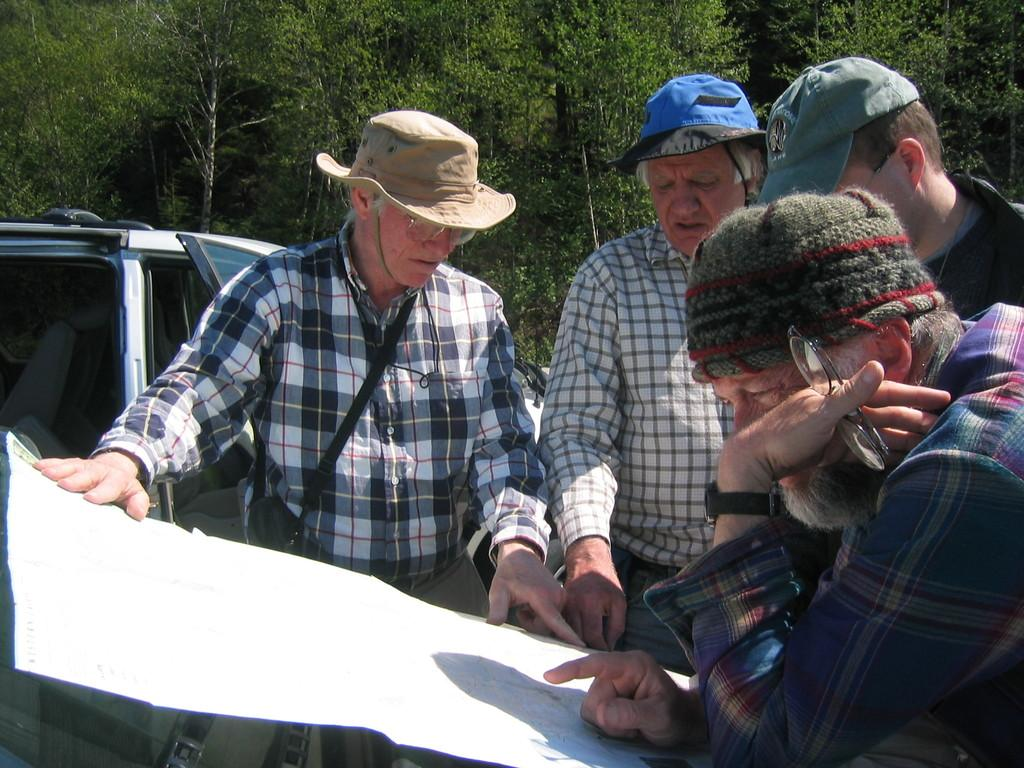Hat: (317, 108, 513, 280), (748, 55, 918, 204), (612, 75, 768, 188)
